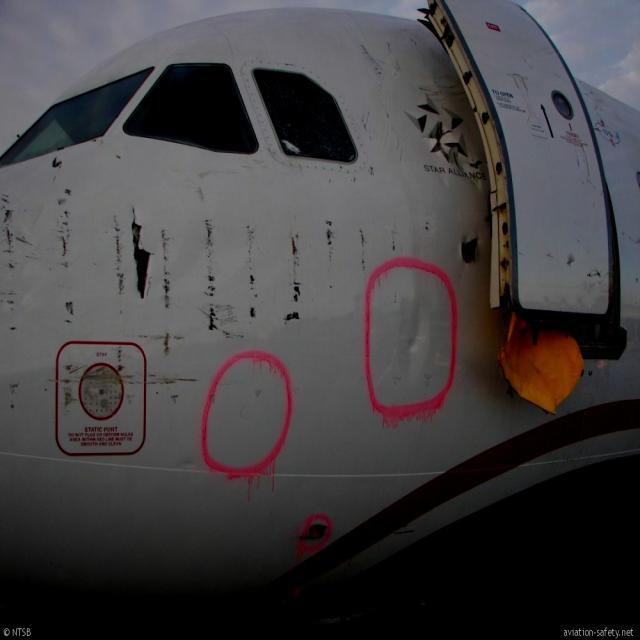dent: (396, 302, 434, 360)
